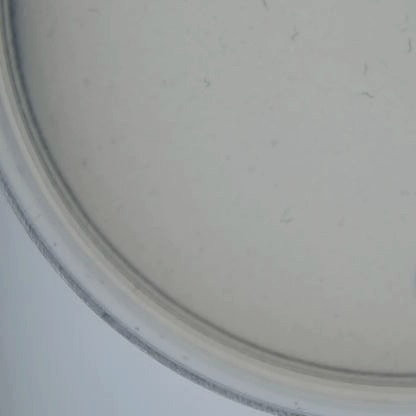worm: (273, 207, 299, 238), (194, 72, 214, 102), (355, 86, 378, 109), (286, 21, 303, 51), (400, 33, 416, 52), (359, 58, 375, 77), (253, 0, 274, 13), (87, 5, 105, 18)
